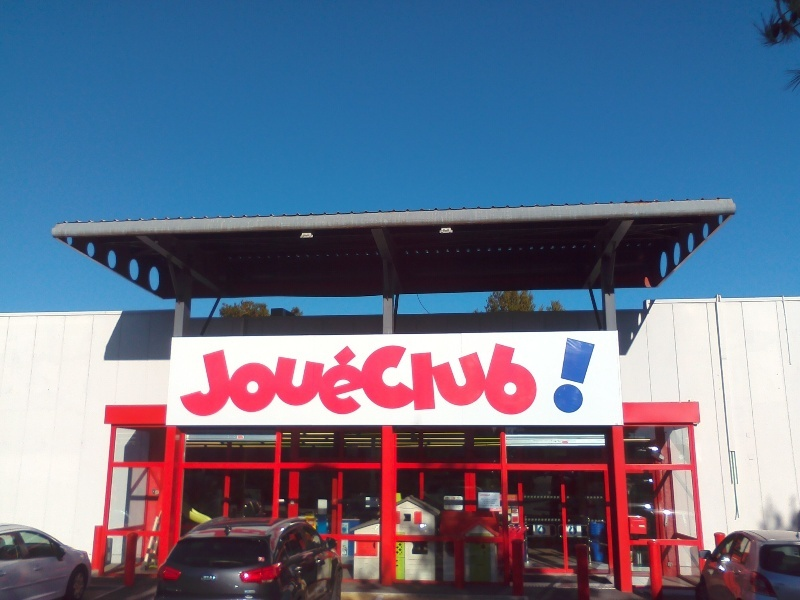text: (577, 337, 592, 418), (193, 343, 208, 418), (209, 343, 224, 418), (225, 343, 240, 418), (241, 343, 256, 418), (257, 343, 272, 418), (273, 343, 288, 418), (289, 343, 304, 418), (305, 343, 320, 418), (321, 343, 336, 418), (337, 343, 352, 418), (353, 343, 368, 418), (369, 343, 384, 418), (385, 343, 400, 418), (401, 343, 416, 418), (417, 343, 432, 418), (433, 343, 448, 418), (449, 343, 464, 418), (465, 343, 480, 418), (481, 343, 496, 418), (497, 343, 512, 418), (513, 343, 528, 418), (566, 337, 576, 418), (529, 343, 539, 418), (593, 337, 597, 418), (481, 499, 496, 507), (191, 343, 192, 418), (209, 576, 217, 581), (202, 576, 208, 581), (497, 499, 499, 507), (481, 495, 496, 496)
